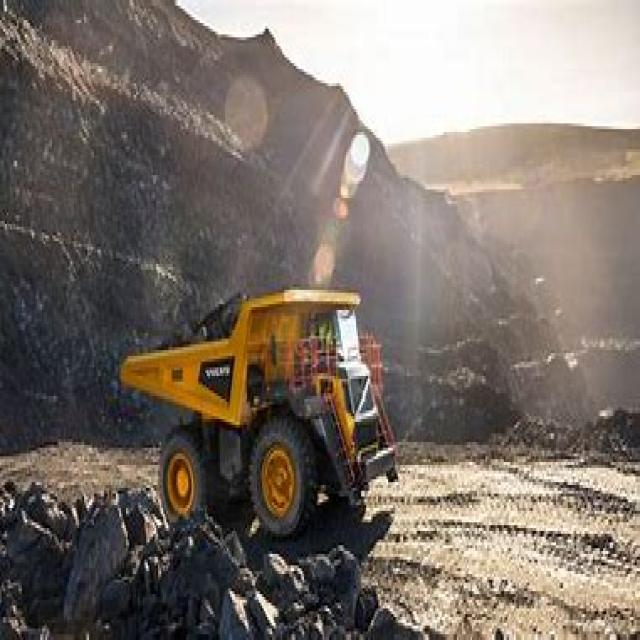dump_truck: (113, 267, 400, 531)
